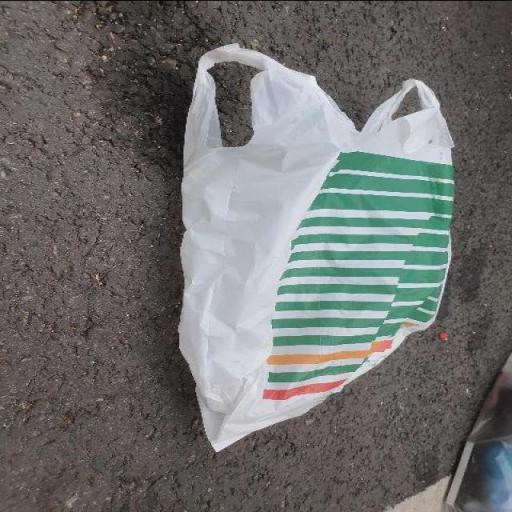plastic-bag: (168, 40, 462, 454)
